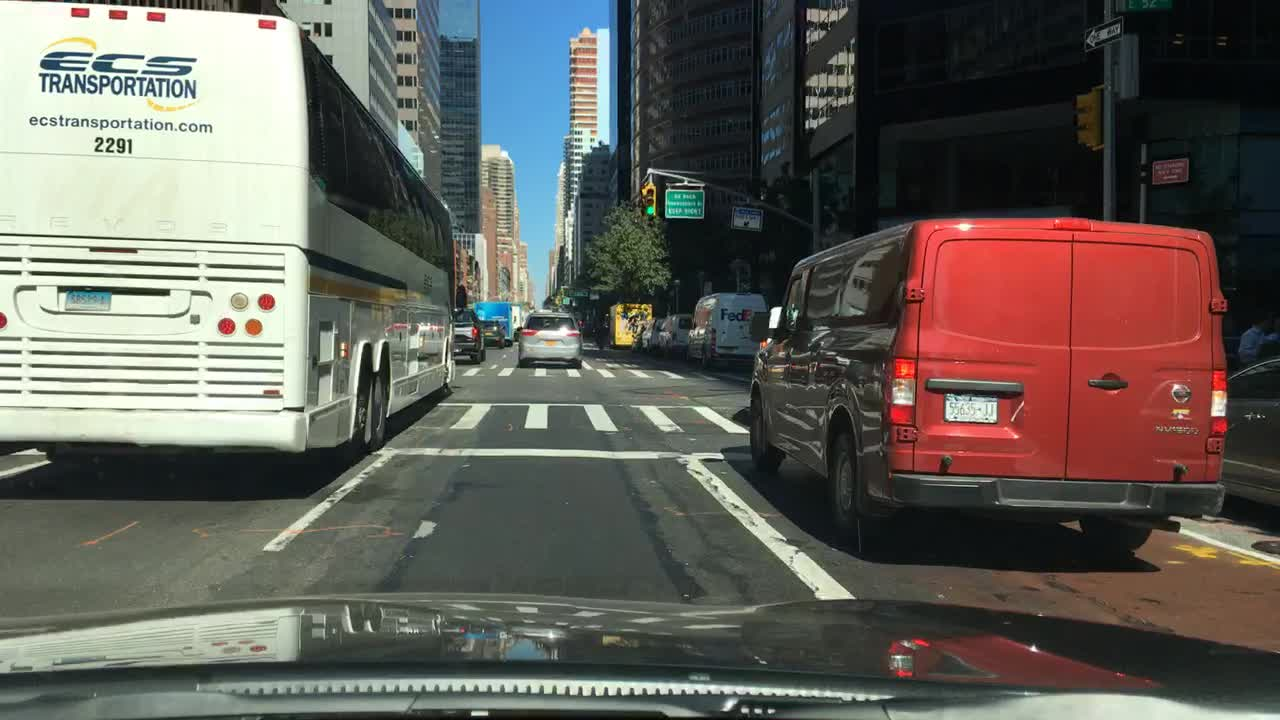bus: (0, 1, 456, 485)
car: (742, 213, 1230, 554), (1217, 357, 1277, 512), (680, 288, 773, 369), (517, 308, 583, 371), (452, 308, 487, 366), (654, 312, 692, 356), (636, 316, 666, 347), (479, 318, 506, 350), (512, 325, 530, 343)
person: (1231, 310, 1277, 373)
traffic light: (1073, 89, 1100, 150), (638, 181, 658, 218)
traffic sign: (1083, 18, 1127, 49), (662, 189, 705, 220), (1152, 157, 1188, 185), (731, 206, 764, 231)
truck: (605, 306, 651, 348), (471, 303, 513, 345), (509, 301, 522, 334)
